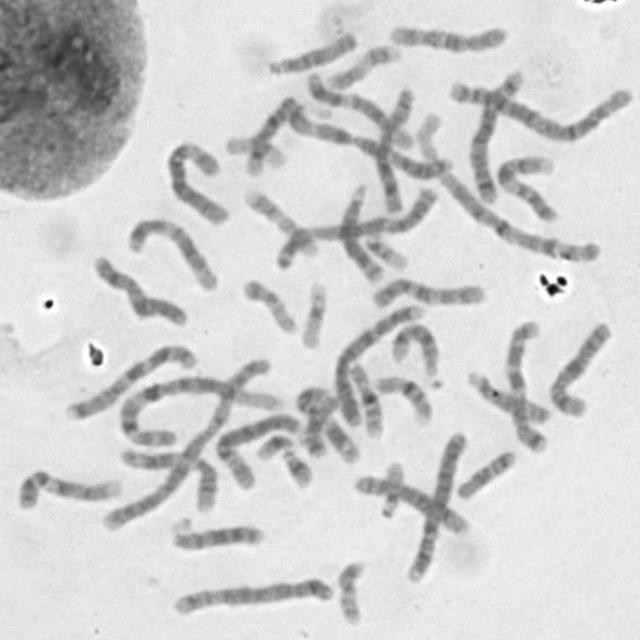A1: (420, 109, 604, 266), (114, 364, 280, 450)
A2: (100, 353, 278, 534), (441, 72, 637, 144)
A3: (271, 181, 440, 270), (285, 109, 458, 180)
B4: (326, 299, 427, 429), (398, 426, 472, 585)
B5: (463, 62, 528, 204), (167, 572, 336, 618)
C10: (384, 17, 511, 55), (366, 272, 488, 310)
C11: (113, 441, 220, 515), (293, 382, 362, 466)
C12: (304, 67, 414, 150), (121, 211, 221, 293)
C6: (213, 409, 304, 491), (161, 134, 233, 227)
C7: (58, 338, 200, 424), (500, 315, 552, 457)
C8: (348, 470, 472, 537), (369, 82, 418, 216)
C9: (11, 464, 125, 512), (492, 150, 562, 222)
D13: (336, 174, 388, 284), (166, 516, 269, 553)
D14: (238, 91, 306, 172), (386, 318, 446, 388)
D15: (461, 365, 552, 426), (264, 27, 360, 77)
E16: (370, 369, 435, 426), (346, 357, 386, 439)
E17: (238, 183, 318, 260), (320, 37, 402, 92)
E18: (452, 444, 519, 501), (301, 394, 341, 447)
F19: (219, 130, 288, 171), (297, 275, 331, 351)
F20: (236, 272, 300, 335), (332, 554, 370, 626)
G21: (278, 443, 316, 490), (250, 427, 298, 462)
G22: (360, 229, 412, 272), (374, 456, 407, 519)
X: (85, 250, 190, 328), (545, 317, 615, 419)
